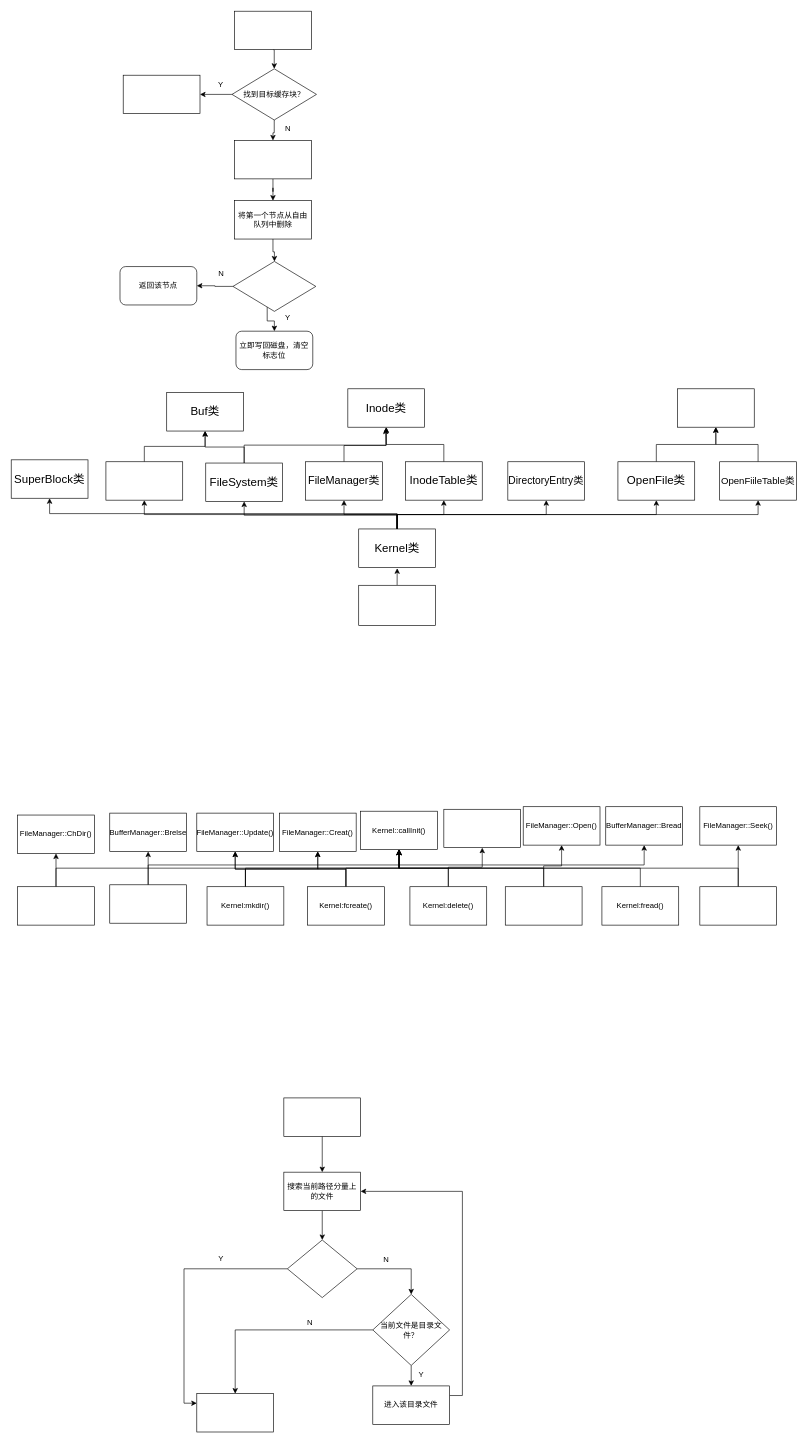
This 808x1443 diagram has some shape labels left out. Here are the shapes that lost their labels. From the top down, the centre of each, then its label:
At (x=272, y=30): "从设备队列中找目标缓存块".
At (x=161, y=94): "从设备队列中分离该缓存块，返回该节点".
At (x=272, y=159): "分离自由队列中的第一个节点".
At (x=274, y=286): "节点带有延迟 写标志？".
At (x=715, y=407): "File类".
At (x=144, y=480): "BufferManger类".
At (x=397, y=605): "main主函数".
At (x=482, y=828): "FileManager::Delete()".
At (x=55, y=905): "Kernel:cd()".
At (x=148, y=903): "Kernel:ls()".
At (x=543, y=905): "Kernel:open()".
At (x=738, y=905): "Kernel:flseek()".
At (x=322, y=1116): "目录树算法dfs_tree".
At (x=322, y=1268): "文件全部找完？".
At (x=235, y=1412): "返回".
